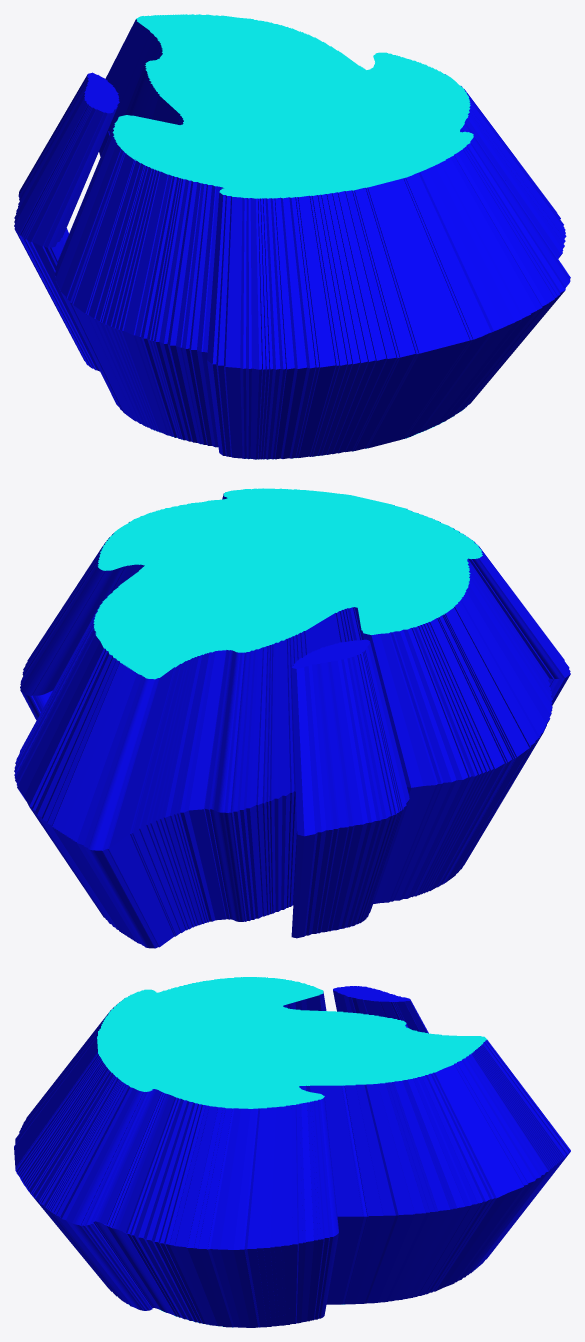
The model's file is iceBall3d.fbx.
3 renders of one model, top to bottom at view 1: azimuth 30°, elevation 25°; view 2: azimuth 150°, elevation 25°; view 3: azimuth 270°, elevation 25°, orthographic. The views are drawn at different scales.
Visible parts, largest first — view 1: 颜色填充_1.001; view 2: 颜色填充_1.001; view 3: 颜色填充_1.001.
Part boxes in pixels (bbox=[...]): 颜色填充_1.001: bbox=[14, 14, 570, 459]; 颜色填充_1.001: bbox=[14, 488, 570, 948]; 颜色填充_1.001: bbox=[14, 977, 570, 1327].
Bounding box in the file's own units: 9.22 × 5 × 11.52.
